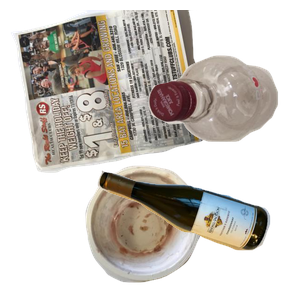glass: (95, 168, 300, 300)
paper: (10, 10, 210, 175)
plastic: (146, 53, 300, 187)
trash: (83, 163, 276, 300)
